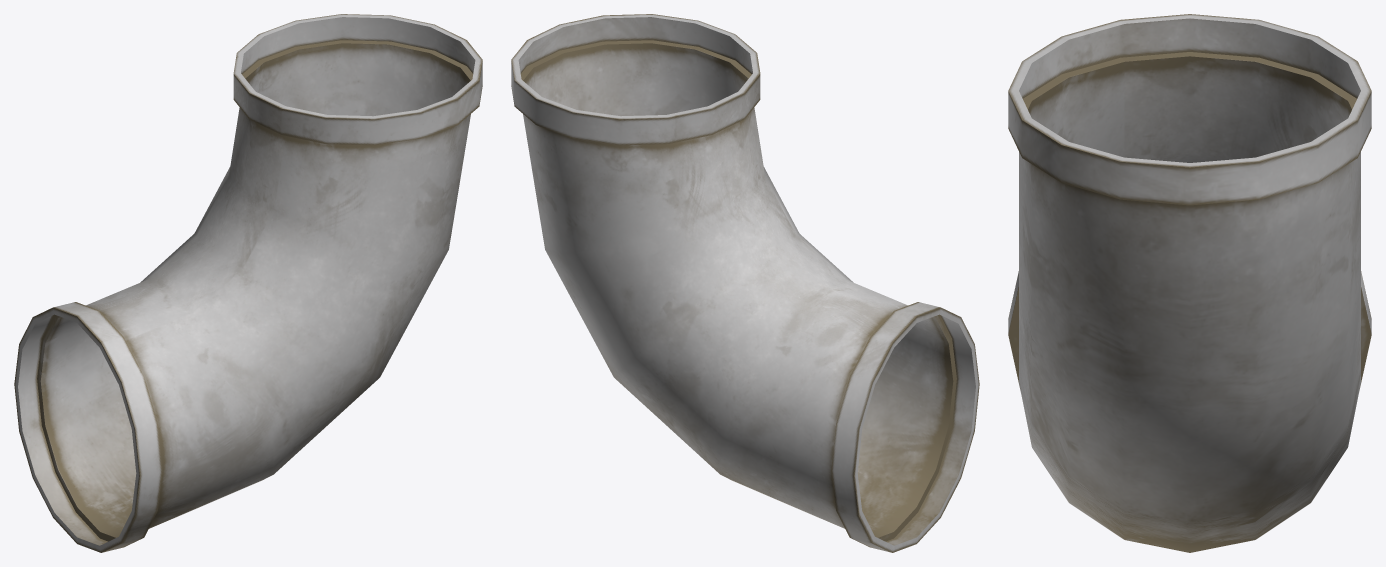
Rendered from duct1.fbx.
3 renders of one model, left to right at view 1: azimuth 30°, elevation 25°; view 2: azimuth 150°, elevation 25°; view 3: azimuth 270°, elevation 25°, orthographic. The views are drawn at different scales.
Visible parts, largest first — view 1: duct1; view 2: duct1; view 3: duct1.
Part boxes in pixels (<box>): duct1: <box>14,14,482,552</box>; duct1: <box>511,14,979,552</box>; duct1: <box>1008,14,1371,552</box>.
Bounding box in the file's own units: 0.7678 × 0.7696 × 0.4286.
